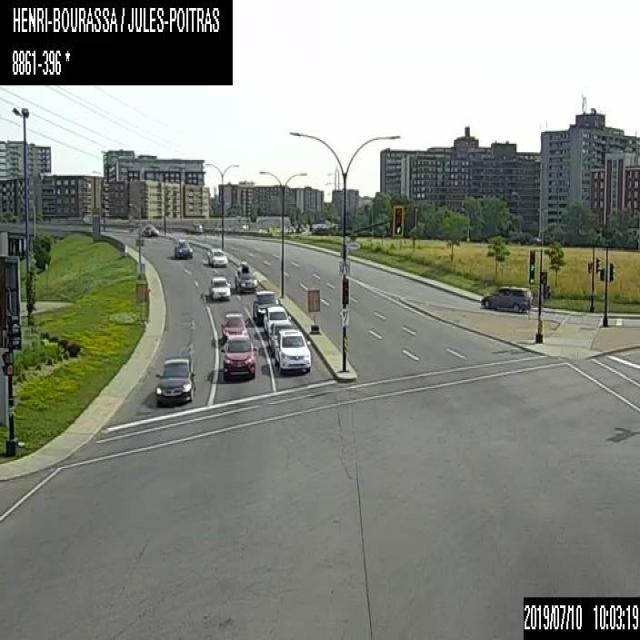vehicle: (154, 356, 194, 405), (220, 334, 257, 380), (274, 329, 310, 374), (479, 284, 530, 312), (268, 321, 299, 354), (251, 289, 279, 325), (221, 311, 248, 342), (262, 306, 290, 335), (234, 261, 257, 291), (208, 275, 230, 300), (207, 246, 228, 266), (173, 239, 192, 257), (140, 223, 158, 236), (184, 223, 202, 233)
